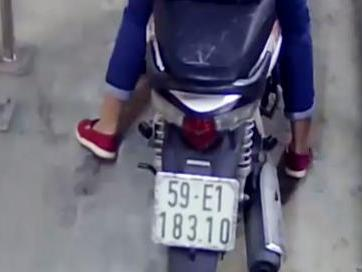num_plate: (151, 172, 240, 252)
